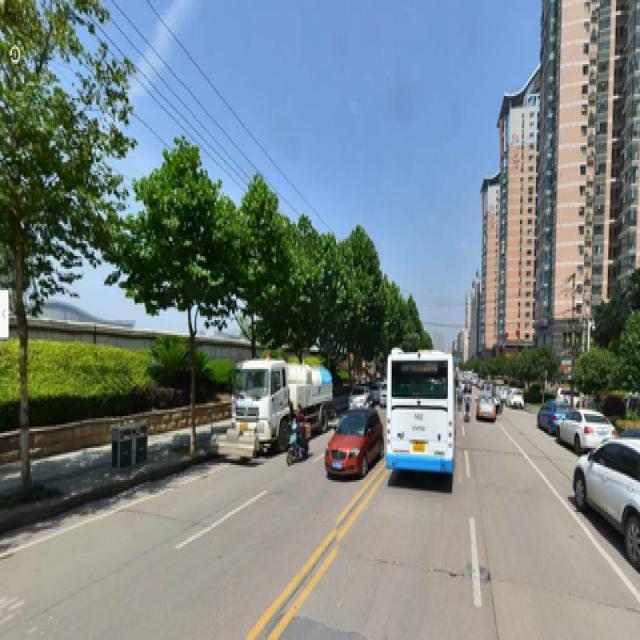meta: (143, 149, 221, 450), (235, 183, 280, 348)
